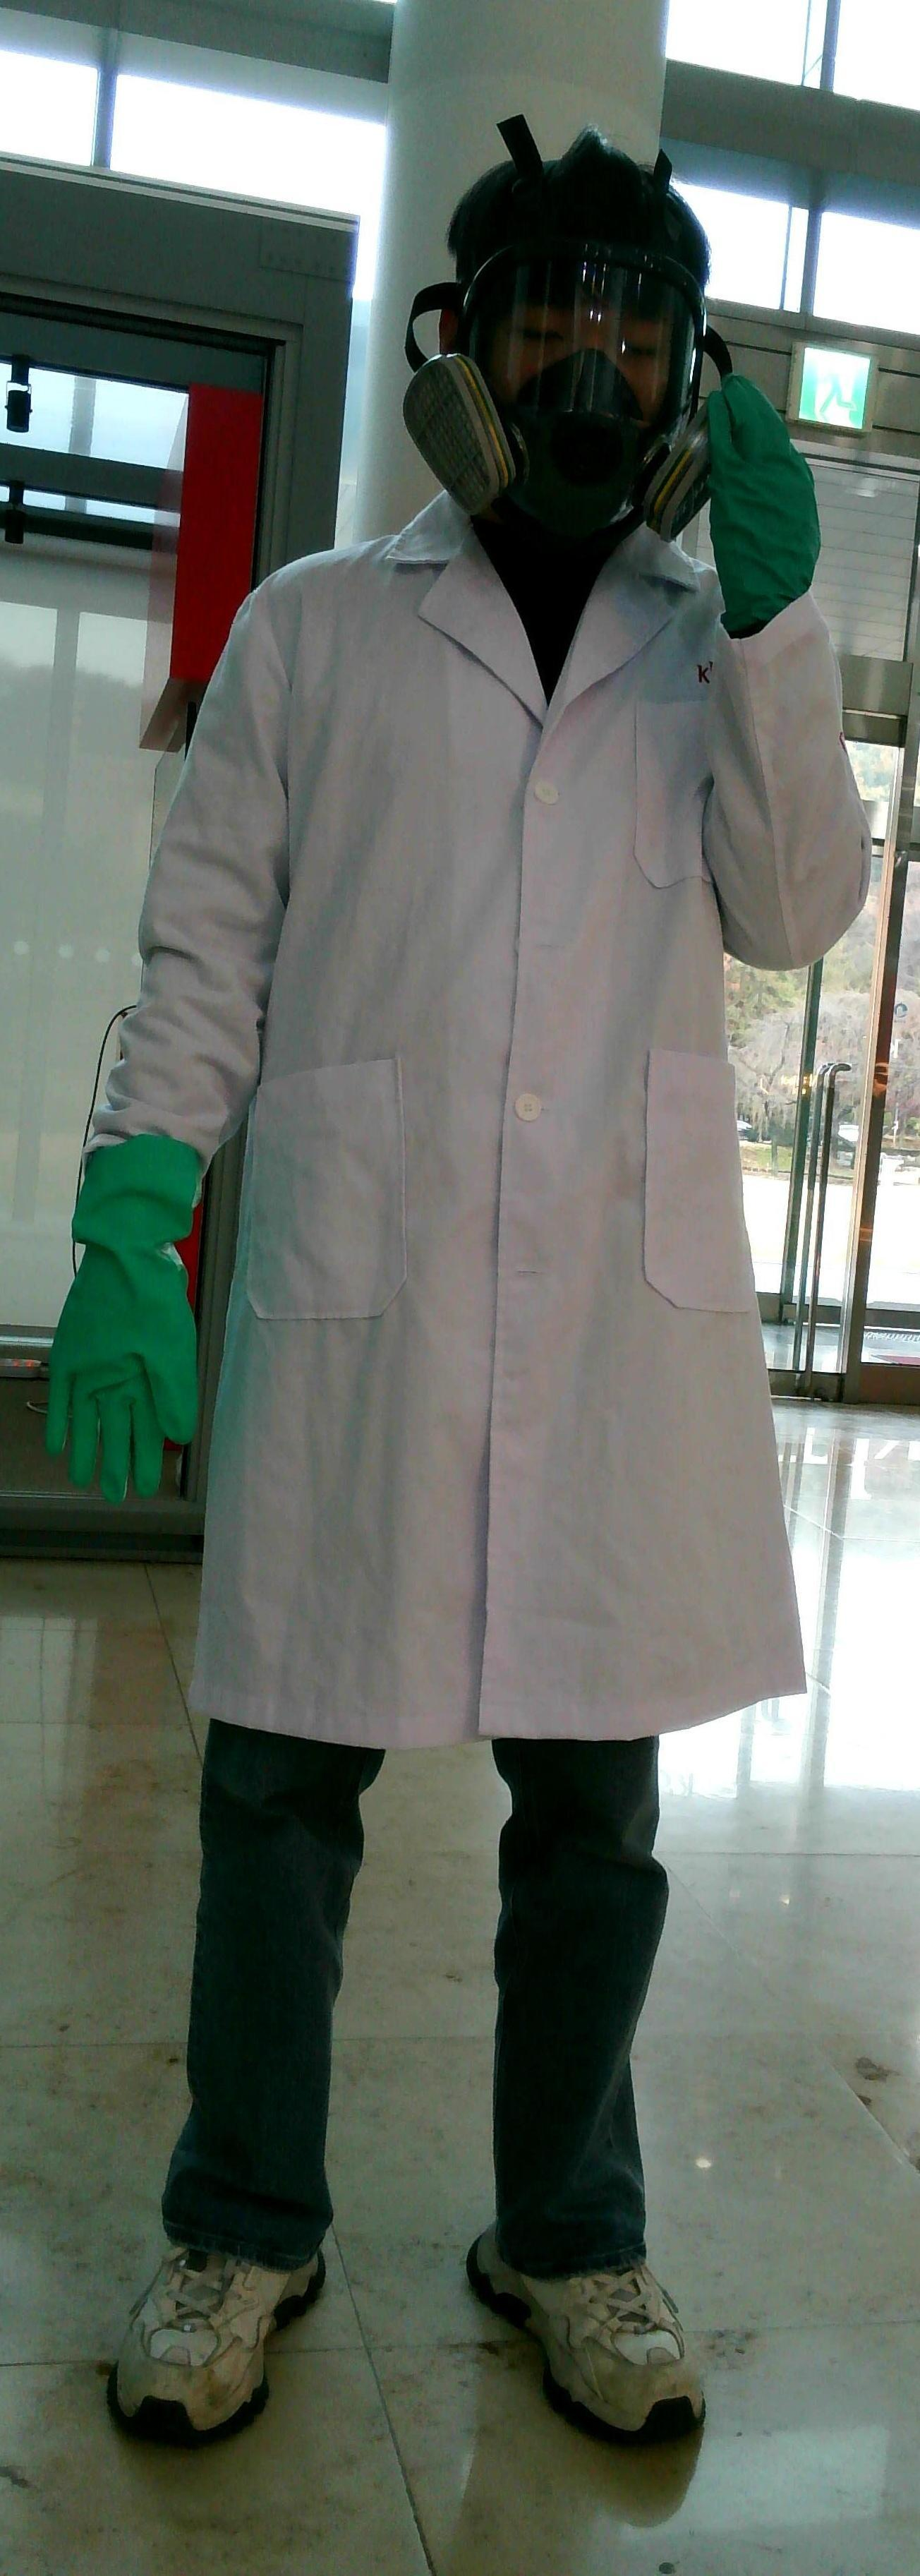lab_coat: (192, 601, 844, 1733)
